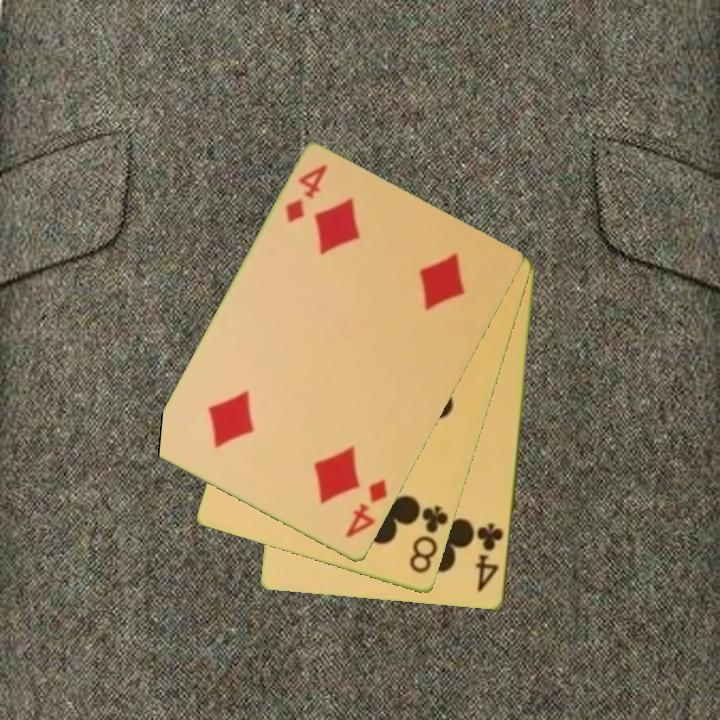4c: (472, 520, 507, 595)
4d: (282, 161, 331, 227), (342, 476, 391, 541)
8c: (406, 502, 452, 577)
